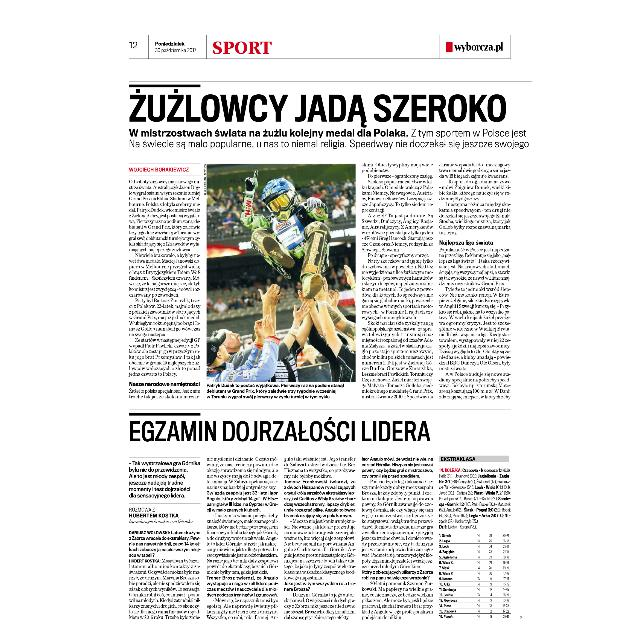article: (128, 83, 530, 403), (126, 411, 437, 624)
